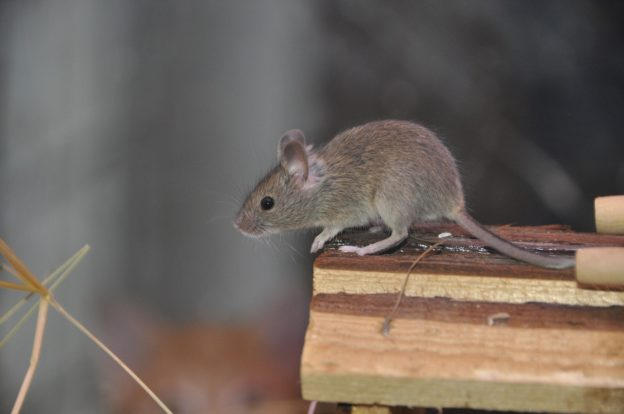mouse: (202, 90, 479, 245)
